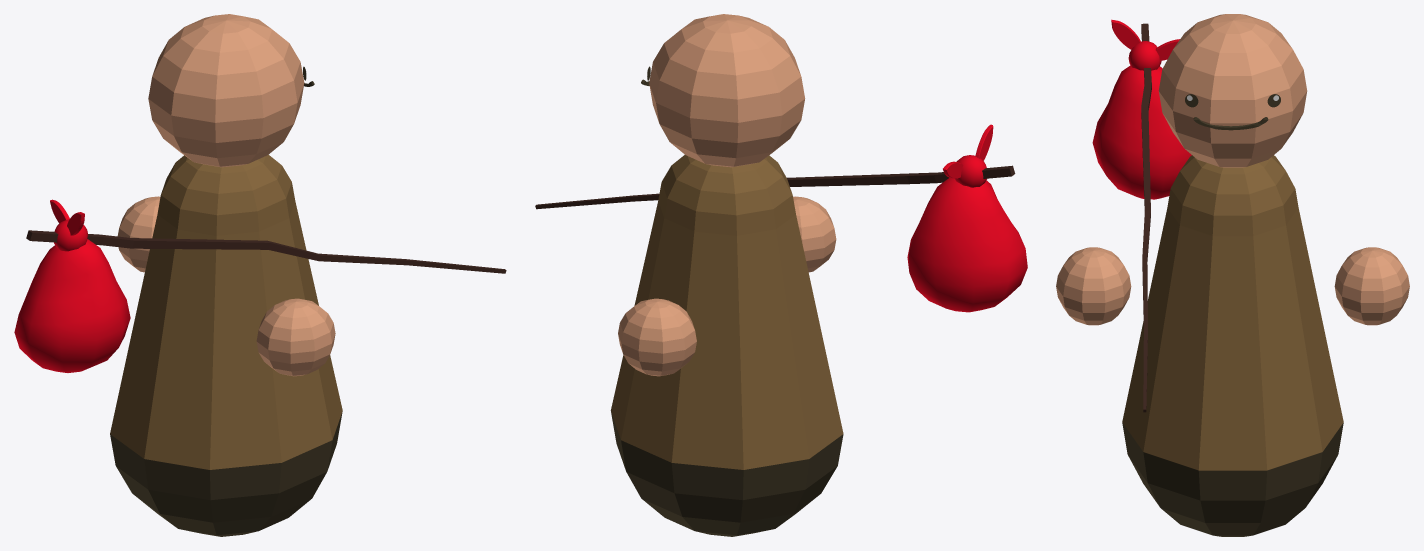
Rendered from Mesh_Char_SDF.fbx.
3 renders of one model, left to right at view 1: azimuth 30°, elevation 25°; view 2: azimuth 150°, elevation 25°; view 3: azimuth 270°, elevation 25°, orthographic.
Visible parts, largest first — view 1: Cube.007; view 2: Cube.007; view 3: Cube.007.
Part boxes in pixels (box(x1,y1,x2,y2)): Cube.007: box(14, 14, 506, 536); Cube.007: box(535, 14, 1027, 536); Cube.007: box(1056, 14, 1409, 536).
Bounding box in the file's own units: 200 × 200 × 127.
